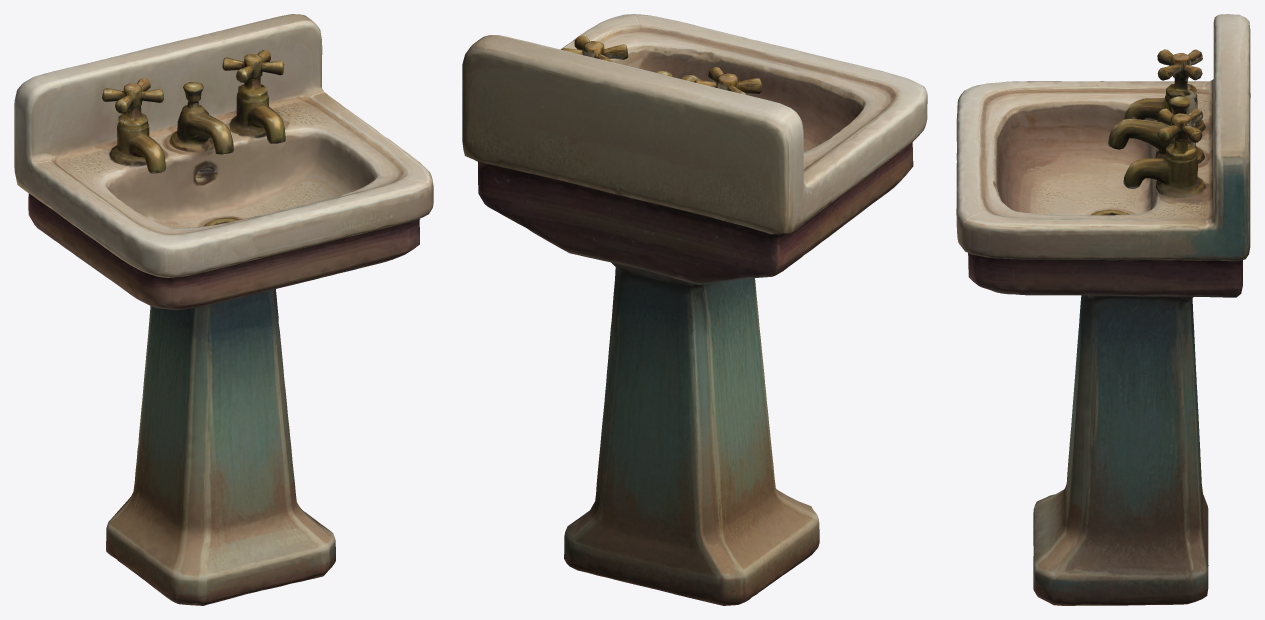
Rendered from Furn_Washbasin.fbx.
3 views of the same model, side by side, from view 1: azimuth 30°, elevation 25°; view 2: azimuth 150°, elevation 25°; view 3: azimuth 270°, elevation 25° (orthographic). The views are drawn at different scales.
Parts seen in each view (by area): view 1: texture_mapping; view 2: texture_mapping; view 3: texture_mapping.
Part boxes in pixels (bbox=[...]): texture_mapping: bbox=[14, 14, 433, 605]; texture_mapping: bbox=[462, 14, 927, 605]; texture_mapping: bbox=[956, 14, 1250, 605].
Bounding box in the file's own units: 0.6523 × 0.5462 × 0.999.
1 material, 1 textured.
